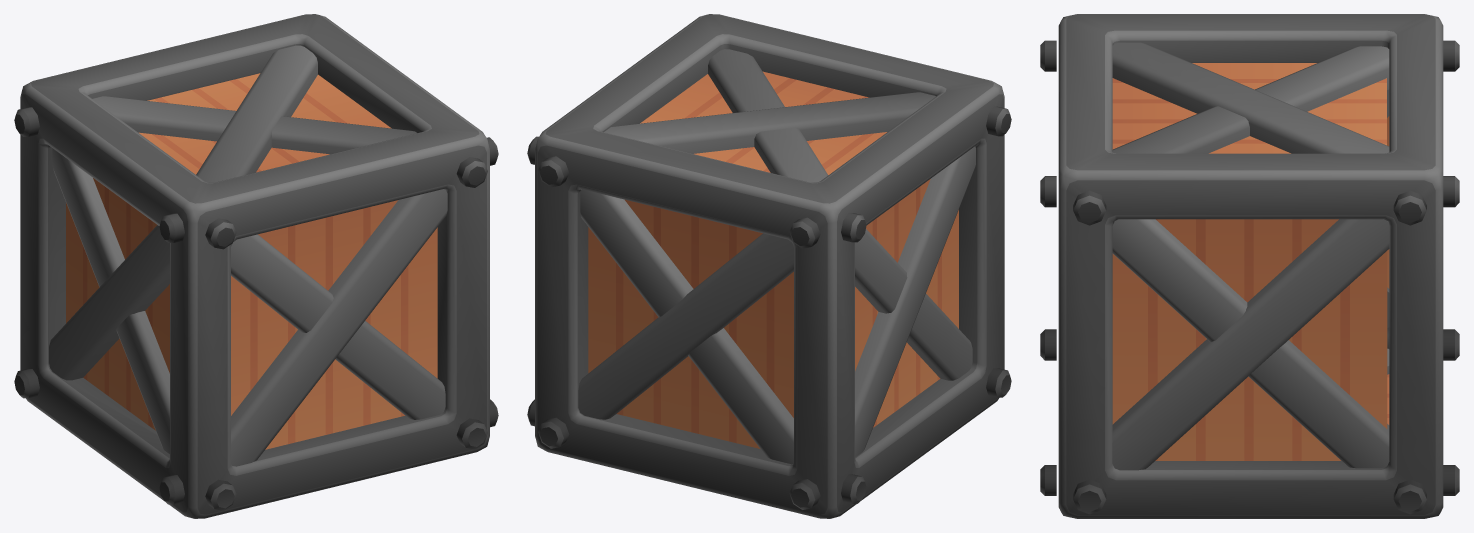
The picture shows the model from 3 angles, left to right: view 1: azimuth 30°, elevation 25°; view 2: azimuth 150°, elevation 25°; view 3: azimuth 270°, elevation 25°; orthographic projection. The views are drawn at different scales.
Parts seen in each view (by area): view 1: Box_V1_00; view 2: Box_V1_00; view 3: Box_V1_00.
Boxes of the visible parts, x1=… form: Box_V1_00: x1=14, y1=14, x2=498, y2=518; Box_V1_00: x1=527, y1=14, x2=1011, y2=518; Box_V1_00: x1=1040, y1=14, x2=1459, y2=518.
Bounding box in the file's own units: 44.14 × 40.5 × 44.14.
